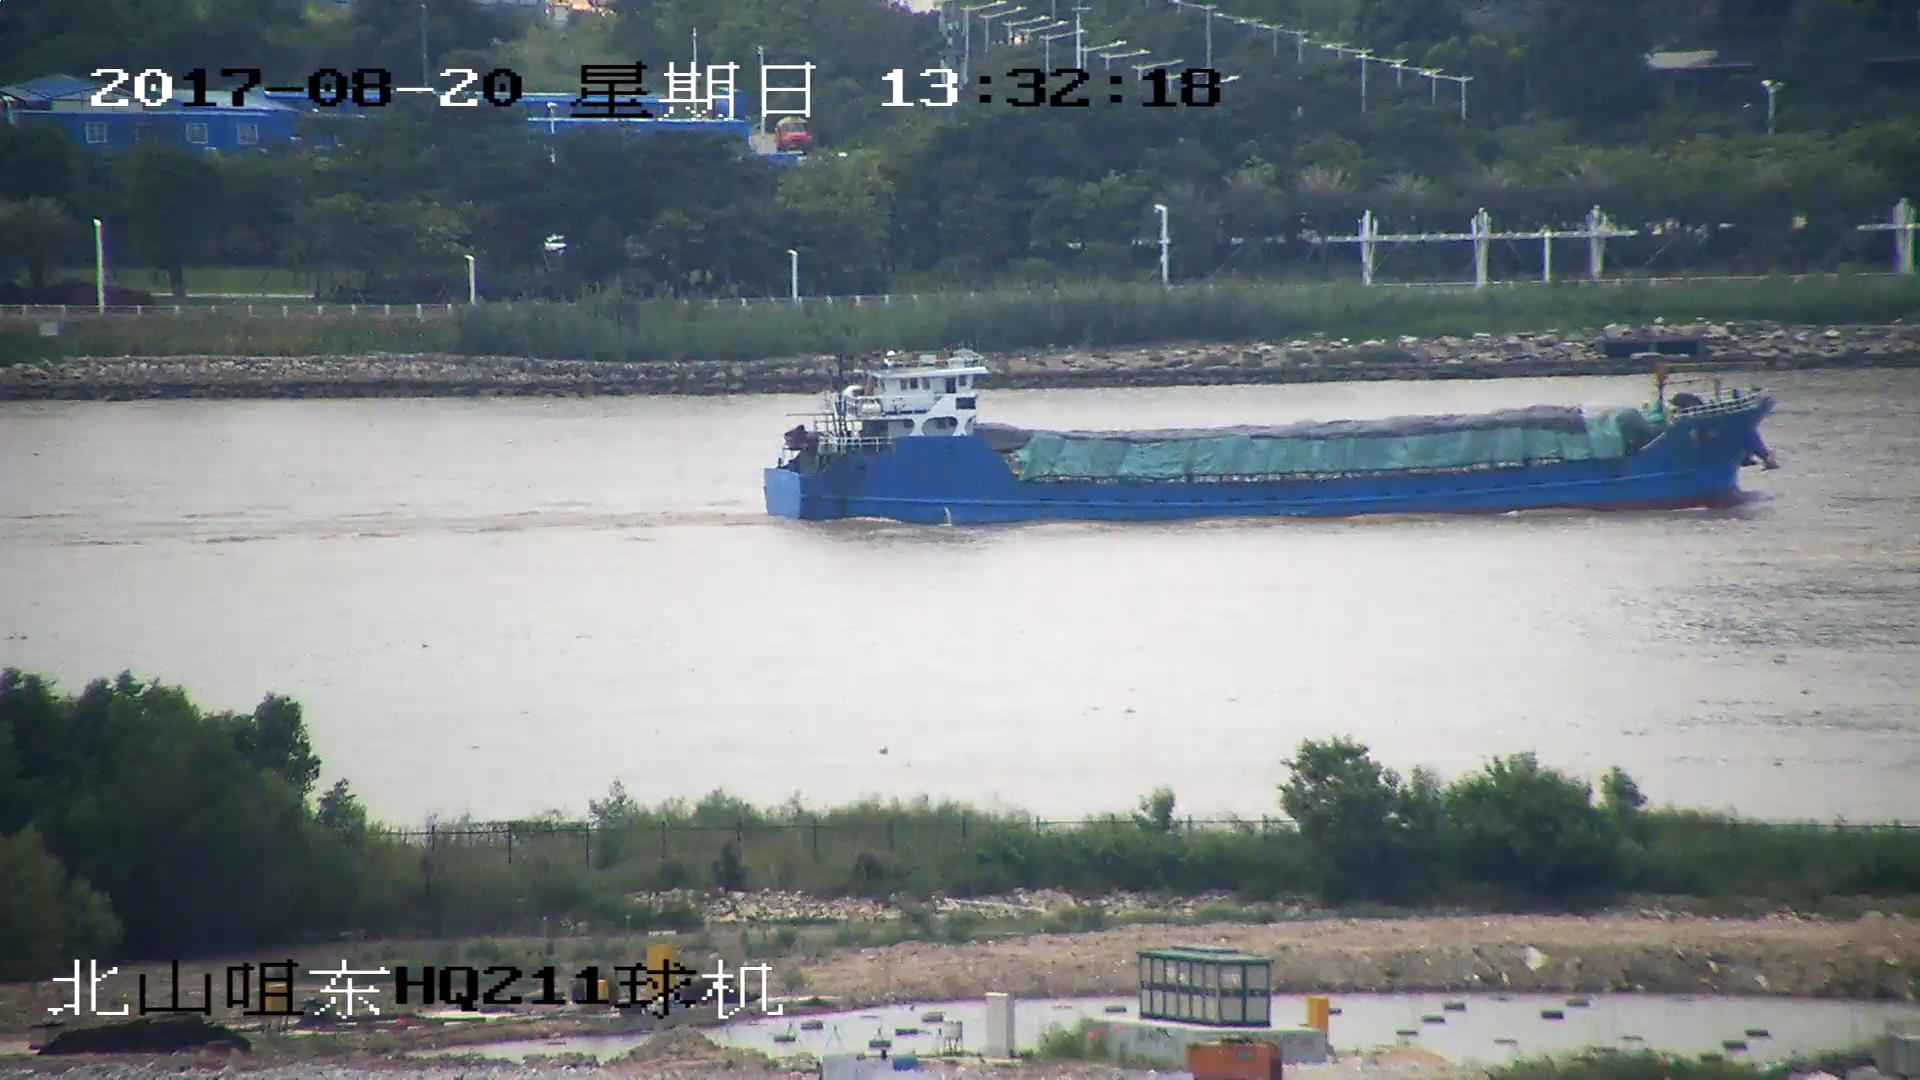general cargo ship: (763, 358, 1775, 526)
